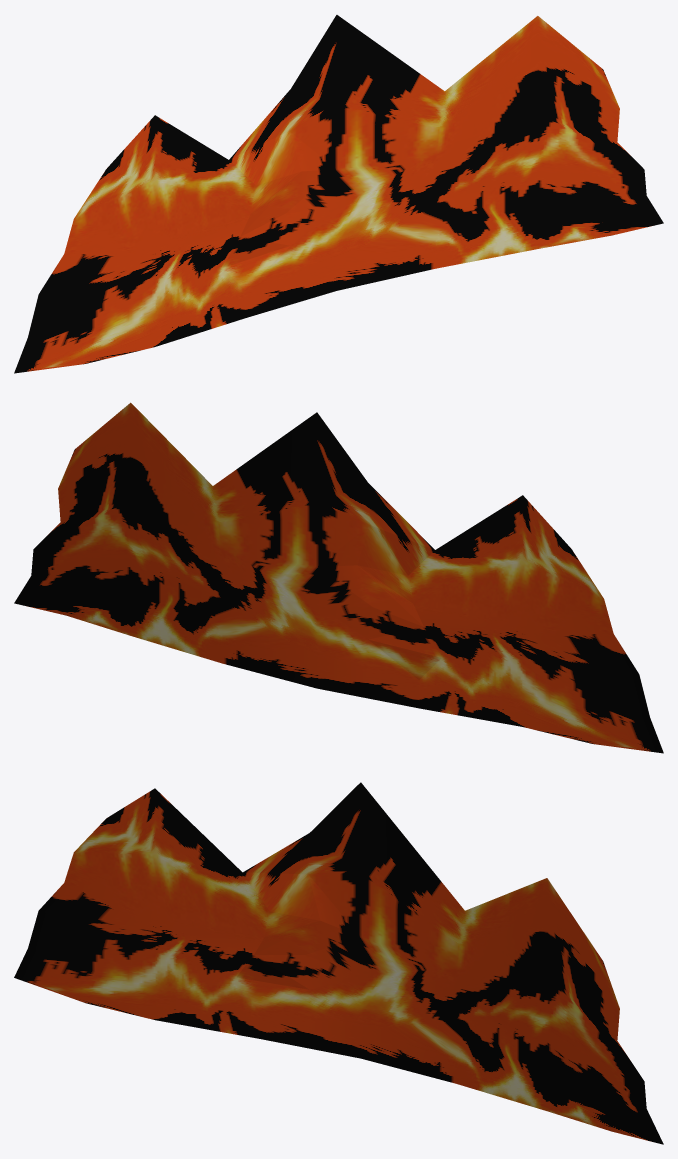
File: fire_wall.FBX
3 renders of one model, top to bottom at view 1: azimuth 30°, elevation 25°; view 2: azimuth 150°, elevation 25°; view 3: azimuth 330°, elevation 25°, orthographic.
Parts seen in each view (by area): view 1: Plane001; view 2: Plane001; view 3: Plane001.
Boxes of the visible parts, <box> form: Plane001: <box>14,15,663,373</box>; Plane001: <box>14,402,663,753</box>; Plane001: <box>14,782,663,1144</box>.
Size of the model in its own units: 824 by 336 by 26.52.
1 material, 1 textured.
